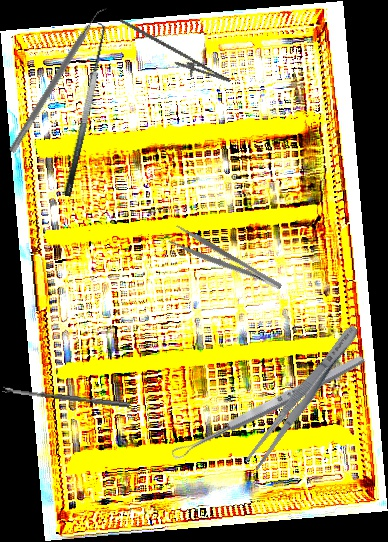Dressing Forceps: (242, 320, 364, 473), (167, 223, 284, 301)
Needle Holder: (110, 18, 237, 92)
Spatula Surgical: (8, 1, 111, 158), (48, 19, 115, 198)
Surgical Spoon: (168, 351, 368, 463), (2, 386, 130, 408)
